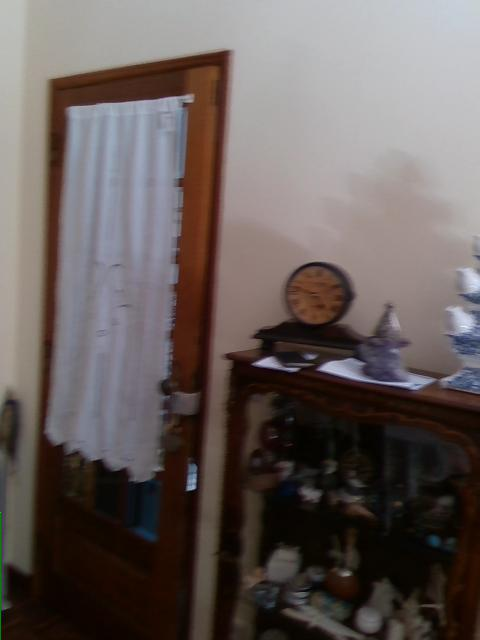door: (30, 49, 230, 637)
